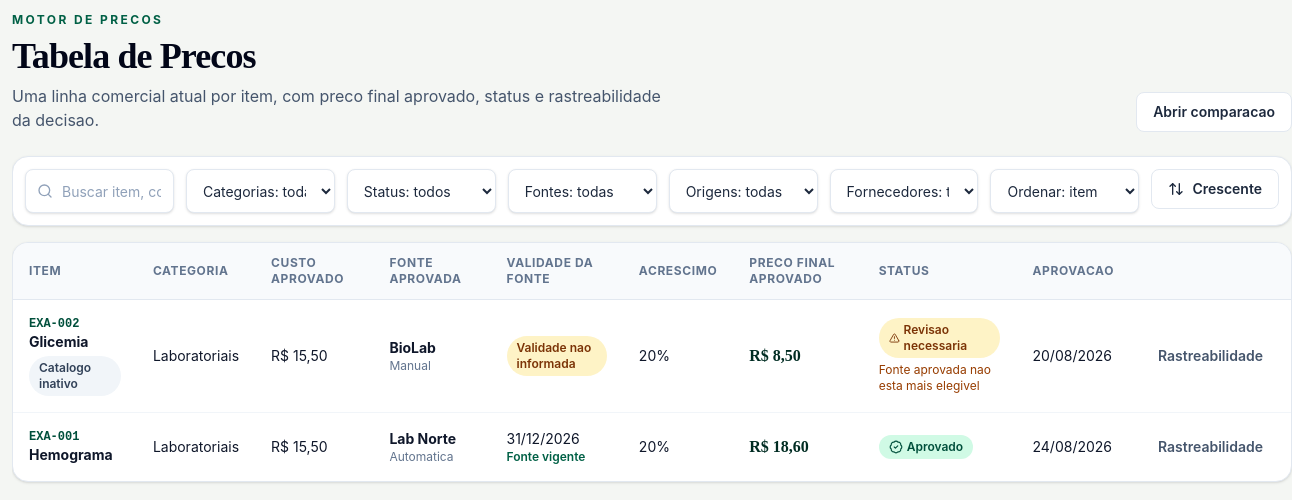
Test case: PriceListPage › filtra pelo fornecedor aprovado
Select "BioLab" in the 5th dropdown named "Filtrar tabela por fornecedor": (904, 191) [830,169,978,213]
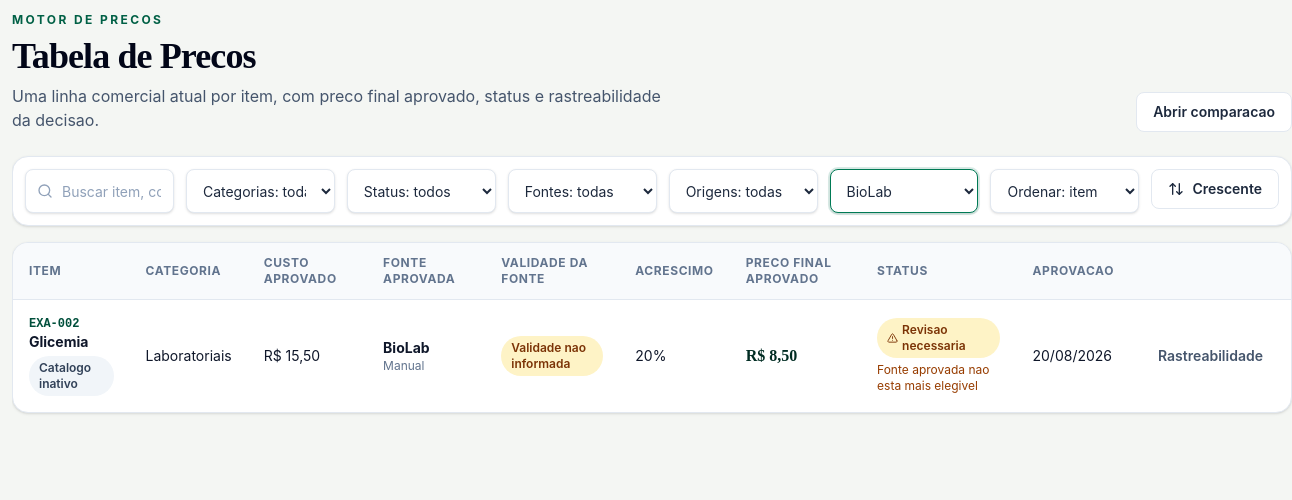
Expected: the text "Glicemia" is shown, [29,333,88,350]
Now the text "Hemograma" is gone
